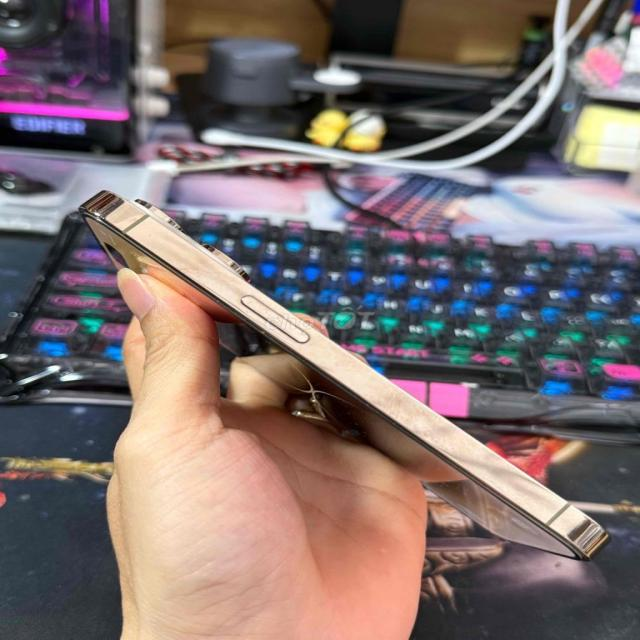gen_14: (65, 182, 617, 562)
